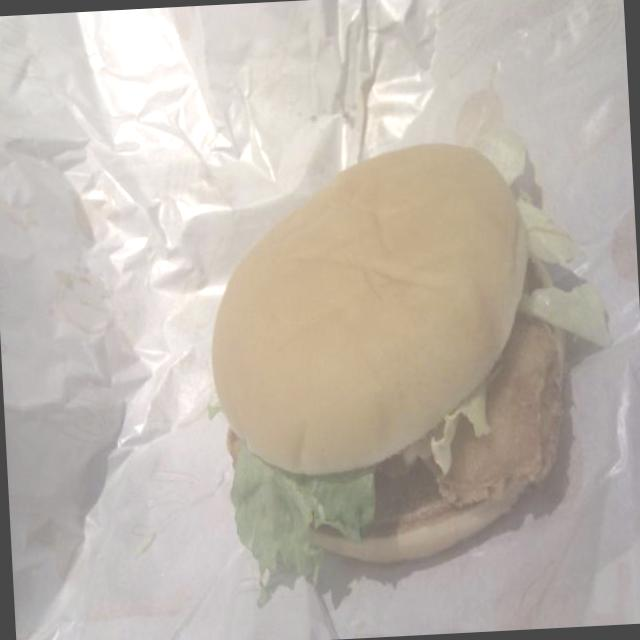Hamburger: (207, 132, 606, 606)
